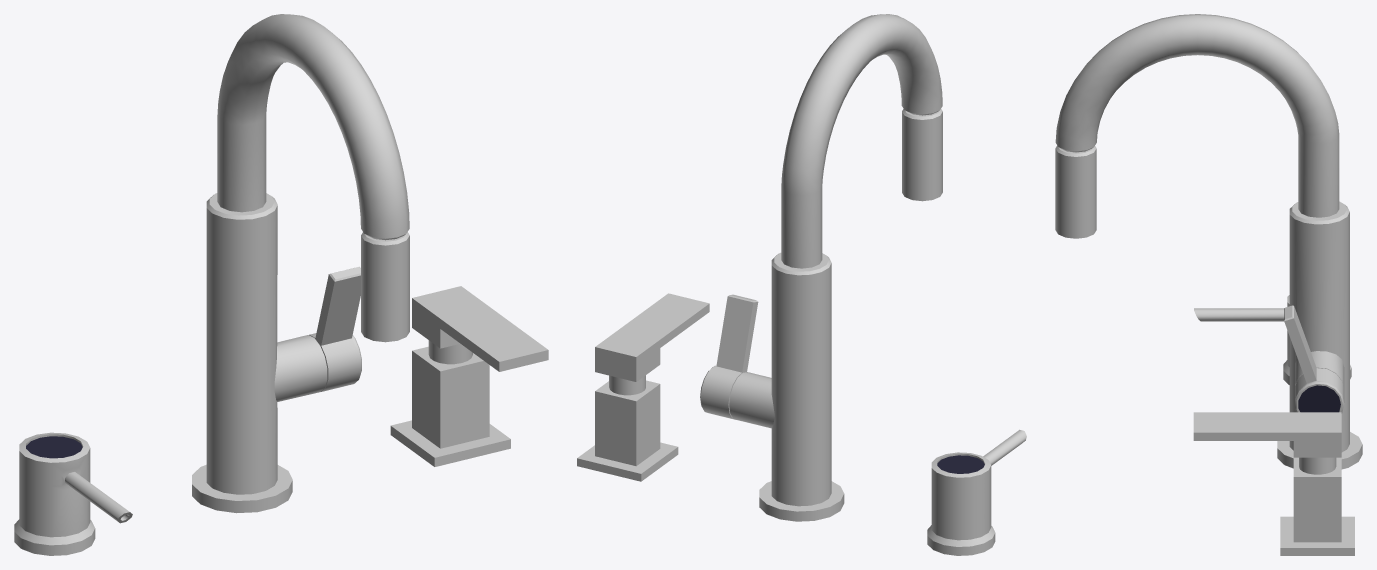
The model's file is sink.fbx.
3 renders of one model, left to right at view 1: azimuth 30°, elevation 25°; view 2: azimuth 150°, elevation 25°; view 3: azimuth 270°, elevation 25°, orthographic. The views are drawn at different scales.
Parts seen in each view (by area): view 1: Circle; view 2: Circle; view 3: Circle.
Part boxes in pixels (x1,y1,x2,y2): Circle: (14, 14, 548, 555); Circle: (577, 14, 1026, 555); Circle: (1055, 14, 1362, 555).
Size of the model in its own units: 384 by 404 by 257.
